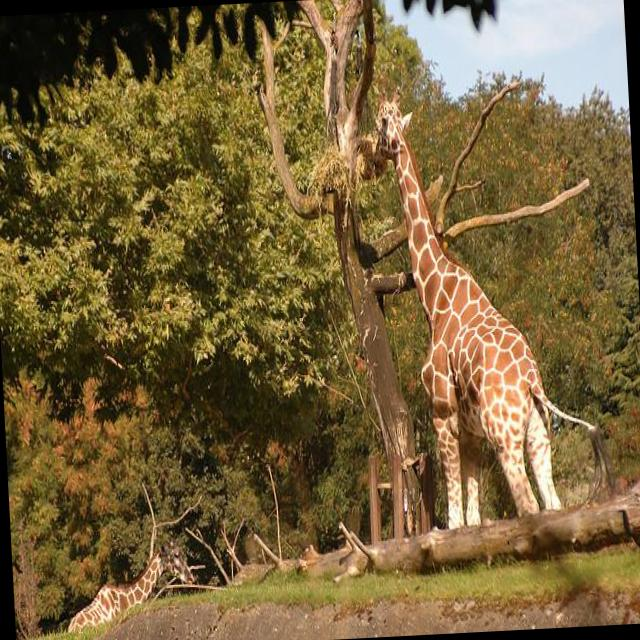giraffe: (374, 75, 612, 532), (64, 542, 200, 632)
